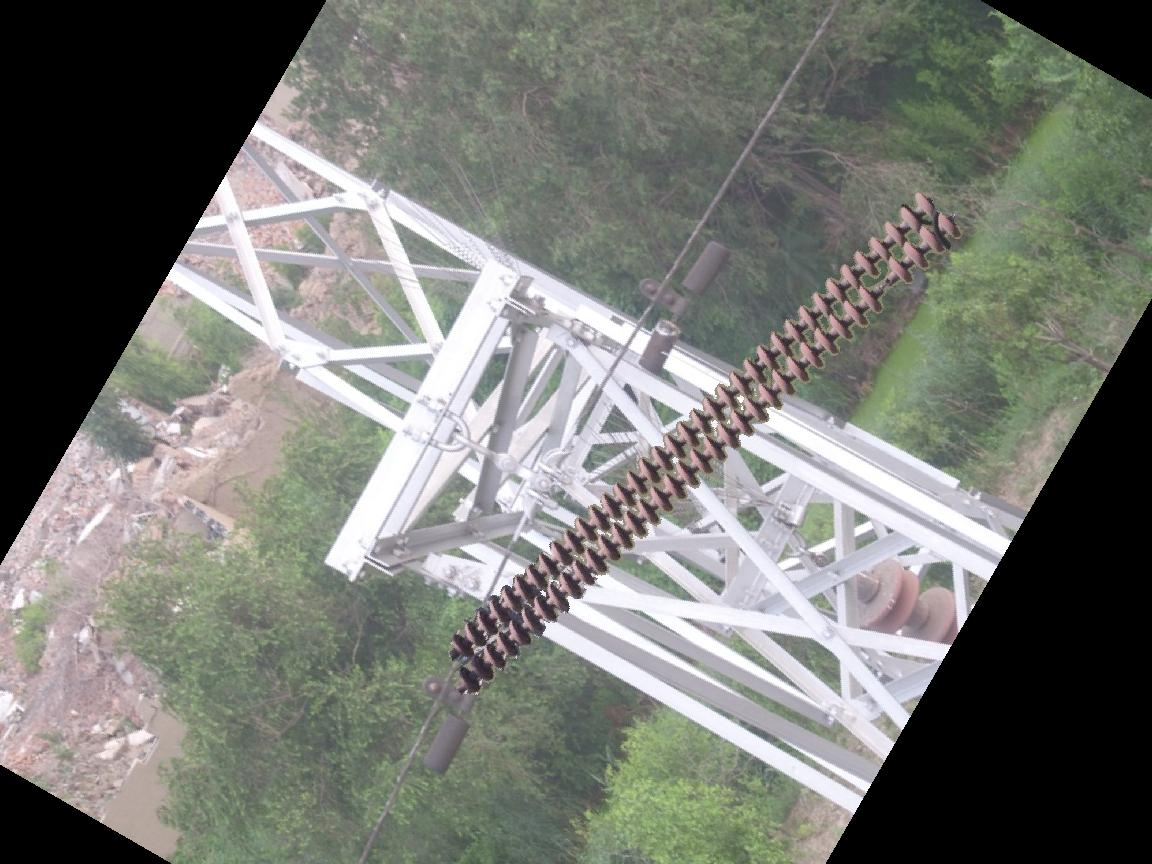insulator: (445, 183, 964, 697)
insulator_stringdrop: (854, 255, 918, 316)
